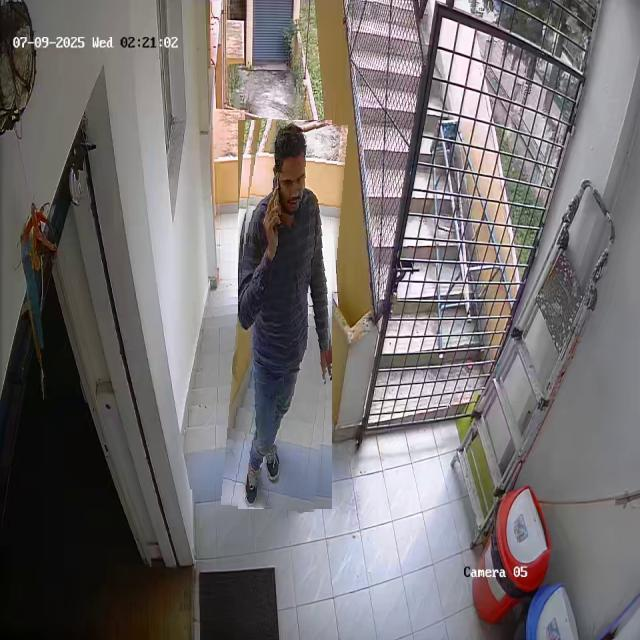person: (230, 119, 340, 510)
